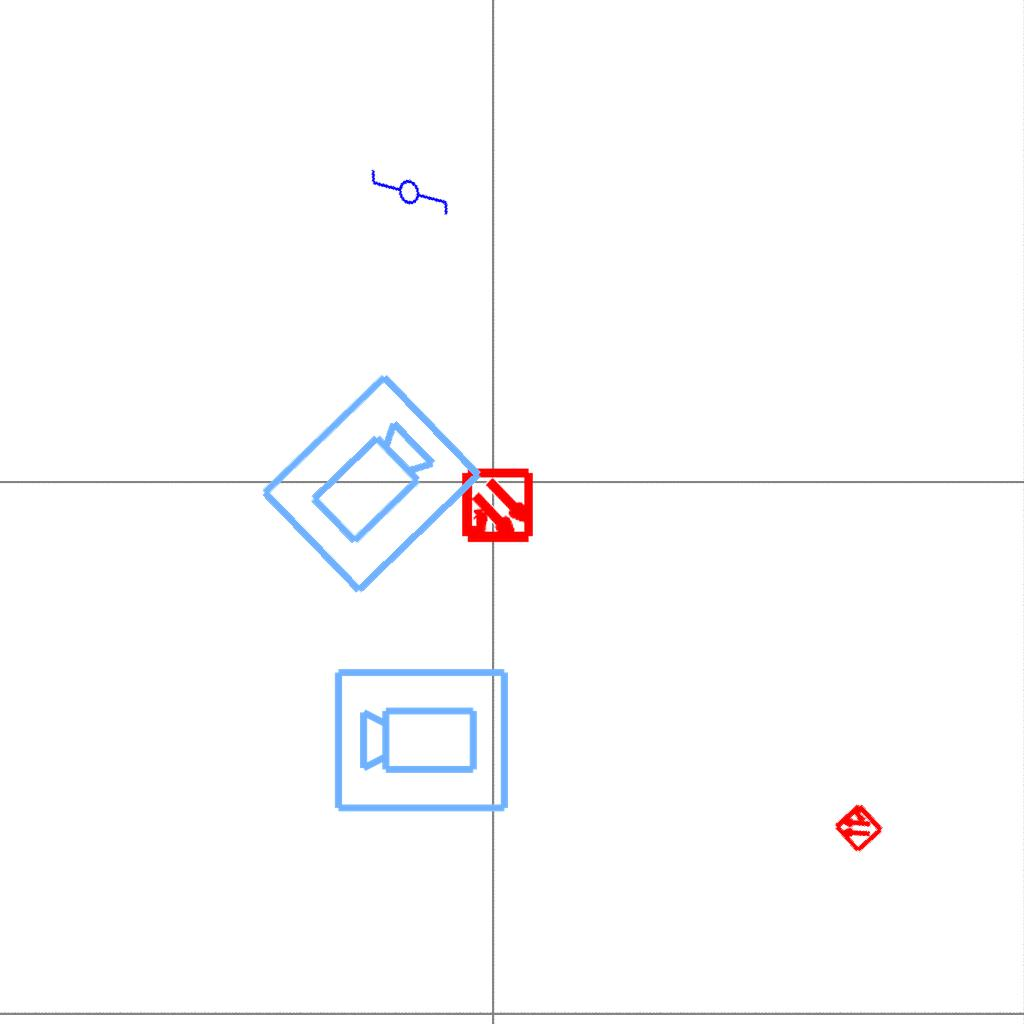KFO_Kamera_mit_Festobjektiv: (253, 366, 491, 604), (331, 662, 513, 816)
OT_Multisensormelder_(Kombination_RMO_WMD): (441, 451, 554, 564), (818, 787, 898, 867)
Wechselschalter: (363, 140, 455, 236)
